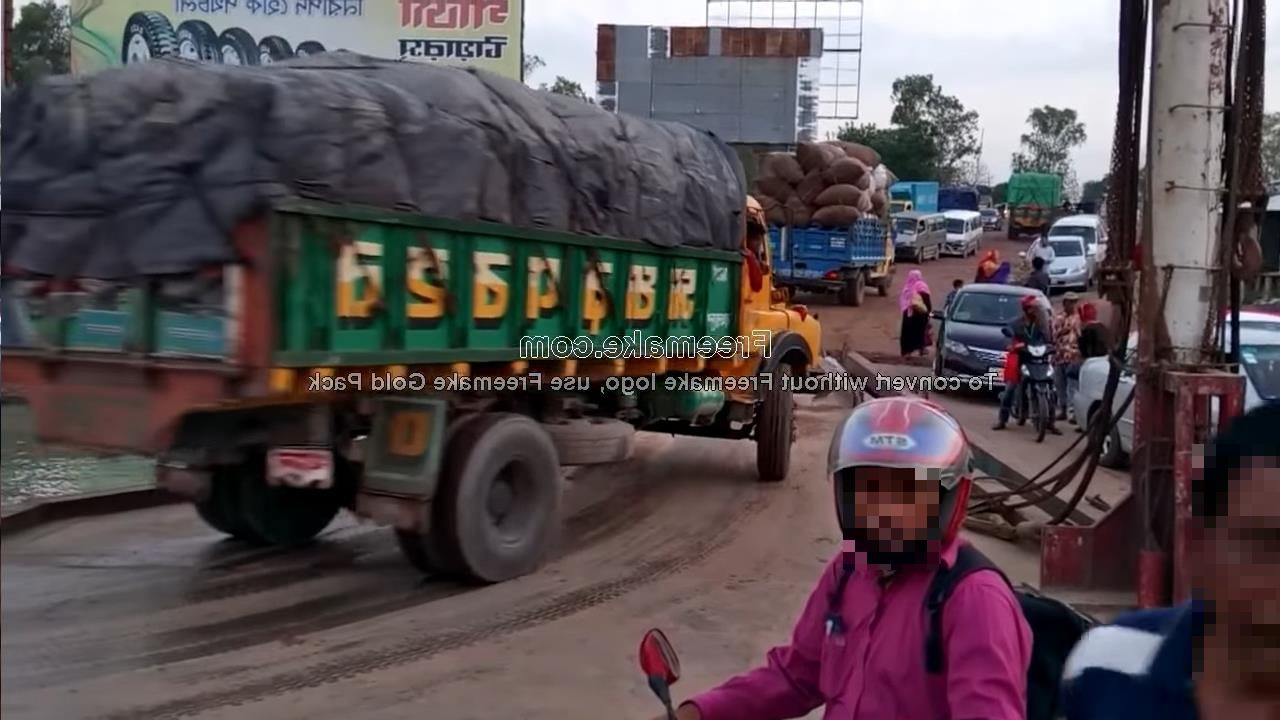bike: (1003, 320, 1071, 439)
car: (1073, 313, 1280, 465), (941, 279, 1058, 407), (1020, 234, 1093, 295), (890, 211, 949, 261), (1050, 212, 1108, 262), (939, 209, 982, 257)
truck: (32, 105, 806, 559), (772, 197, 900, 291), (998, 175, 1065, 241)
